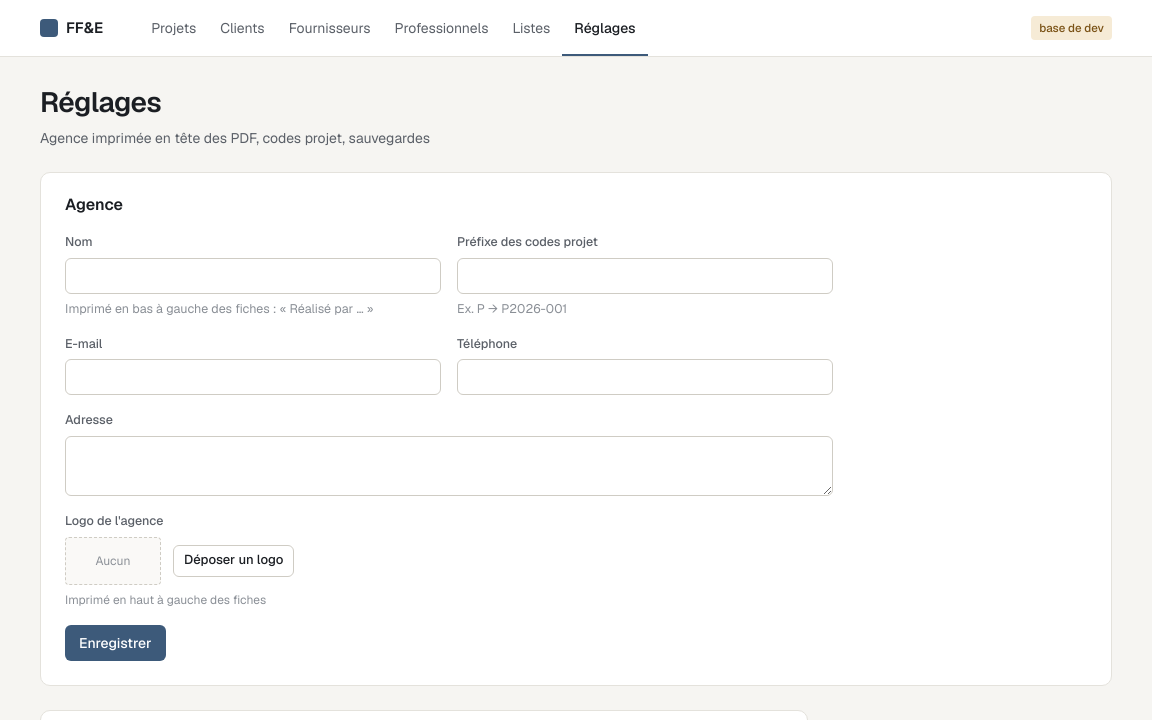
Test case: page Réglages › enregistrer l’agence et le préfixe : un PATCH partiel, formulaire rechargé
Step 1. Type "Atelier X" into the field labelled "Nom" → [253, 276], box [65,258,441,294]
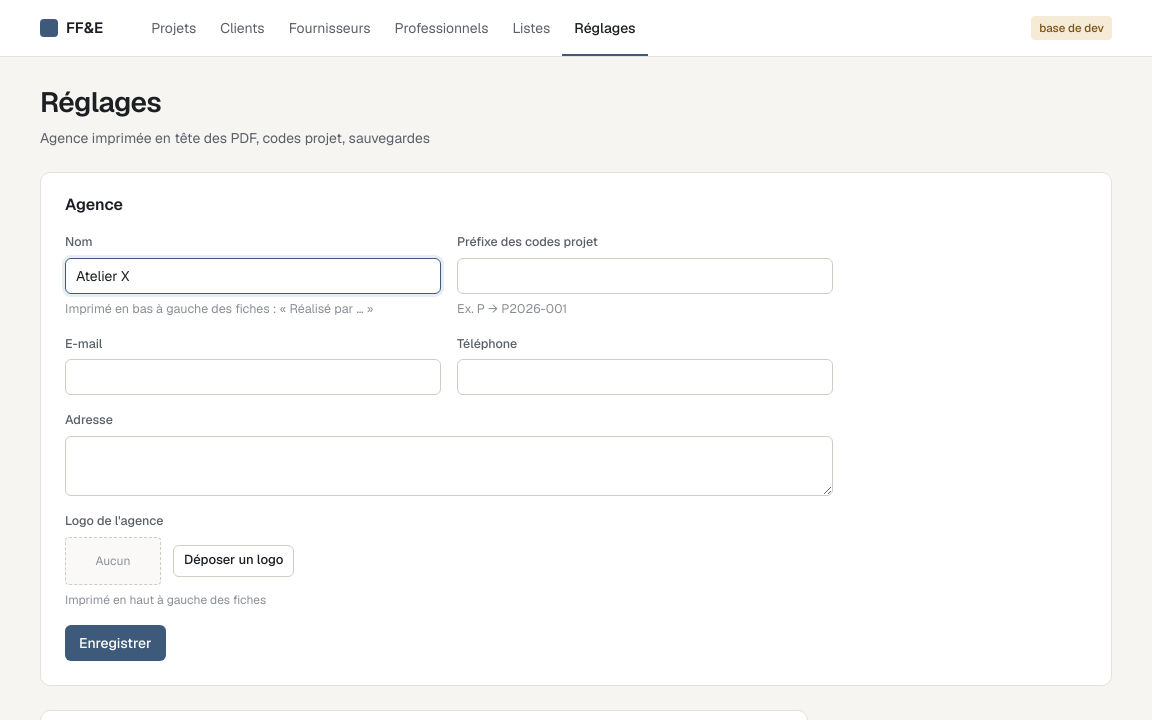
Step 2. Type "P" into the field labelled "Préfixe des codes projet" → [645, 276], box [457,258,833,294]
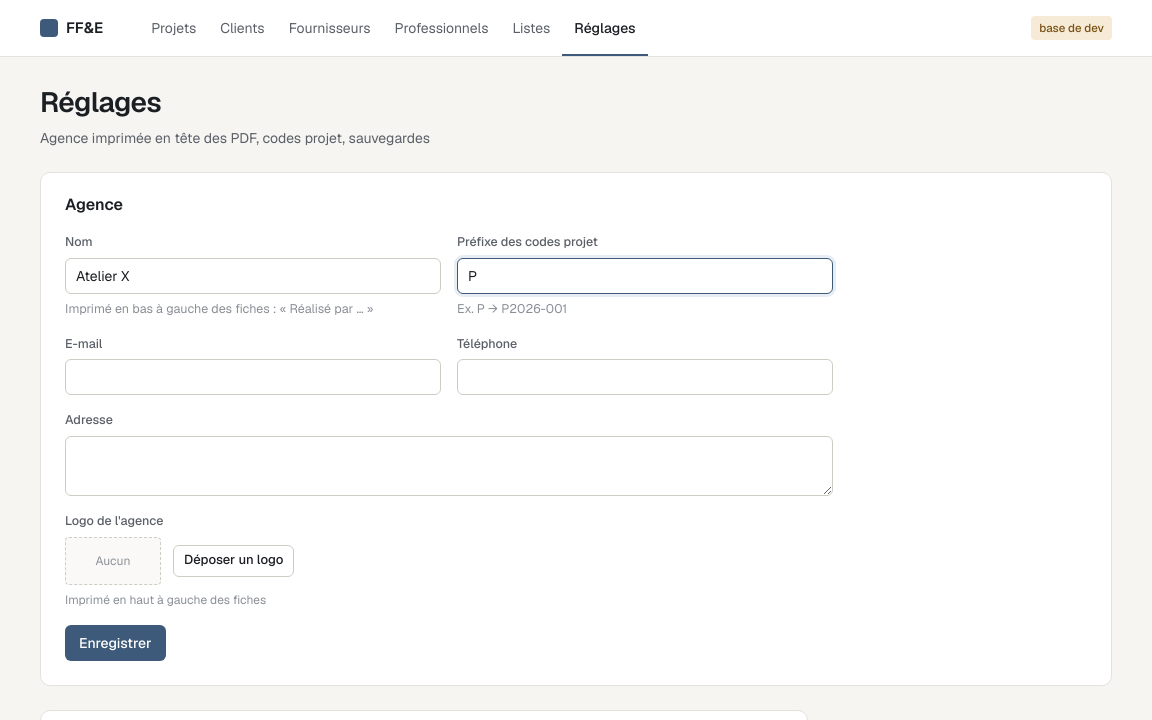
Step 3. Click the button "Enregistrer" → [115, 643], box [65,625,166,661]
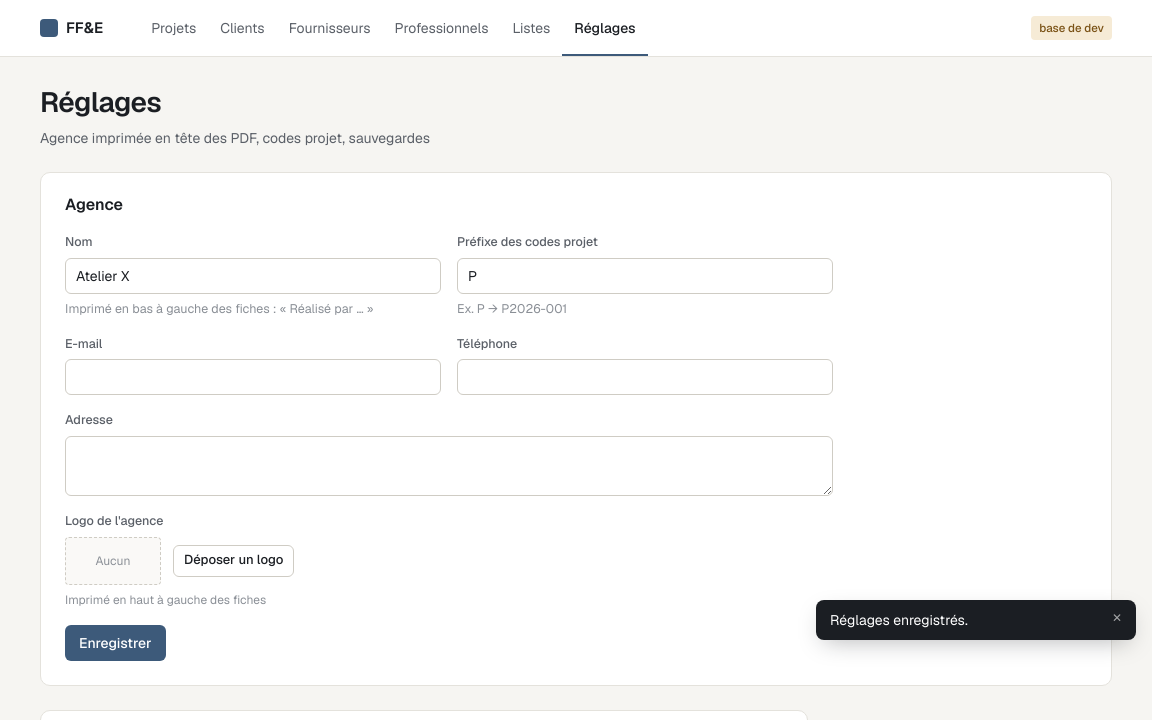
Now the text "Réglages enregistrés." is shown, box [830,610,968,630]
